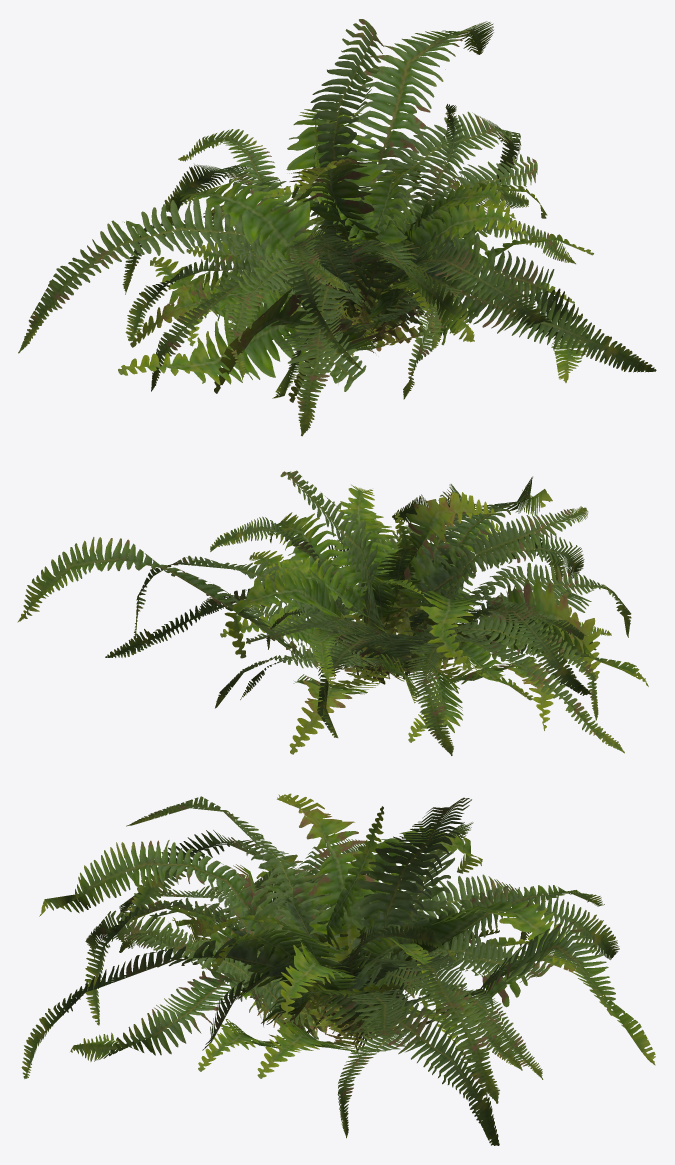
File: fern_02.glb
3 views of the same model, one above another, from view 1: azimuth 30°, elevation 25°; view 2: azimuth 150°, elevation 25°; view 3: azimuth 270°, elevation 25° (orthographic). The views are drawn at different scales.
Parts seen in each view (by area): view 1: plant_0, plant_1, plant_3, plant_2; view 2: plant_0, plant_1, plant_2, plant_3; view 3: plant_0, plant_1, plant_2, plant_3.
Boxes of the visible parts, box(x1,y1,x2,y2) form: plant_0: box(18, 19, 656, 436); plant_1: box(118, 120, 587, 402); plant_3: box(150, 180, 574, 398); plant_2: box(183, 104, 554, 349); plant_0: box(17, 470, 631, 754); plant_1: box(105, 484, 648, 755); plant_2: box(210, 516, 532, 708); plant_3: box(266, 519, 611, 742); plant_0: box(21, 793, 655, 1138); plant_1: box(70, 796, 604, 1145); plant_2: box(119, 873, 553, 1079); plant_3: box(131, 861, 541, 1071).
Bounding box in the file's own units: 0.989 × 0.4277 × 0.8937.
1 material, 1 textured.
